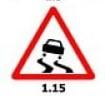road_sign: (9, 5, 98, 81)
